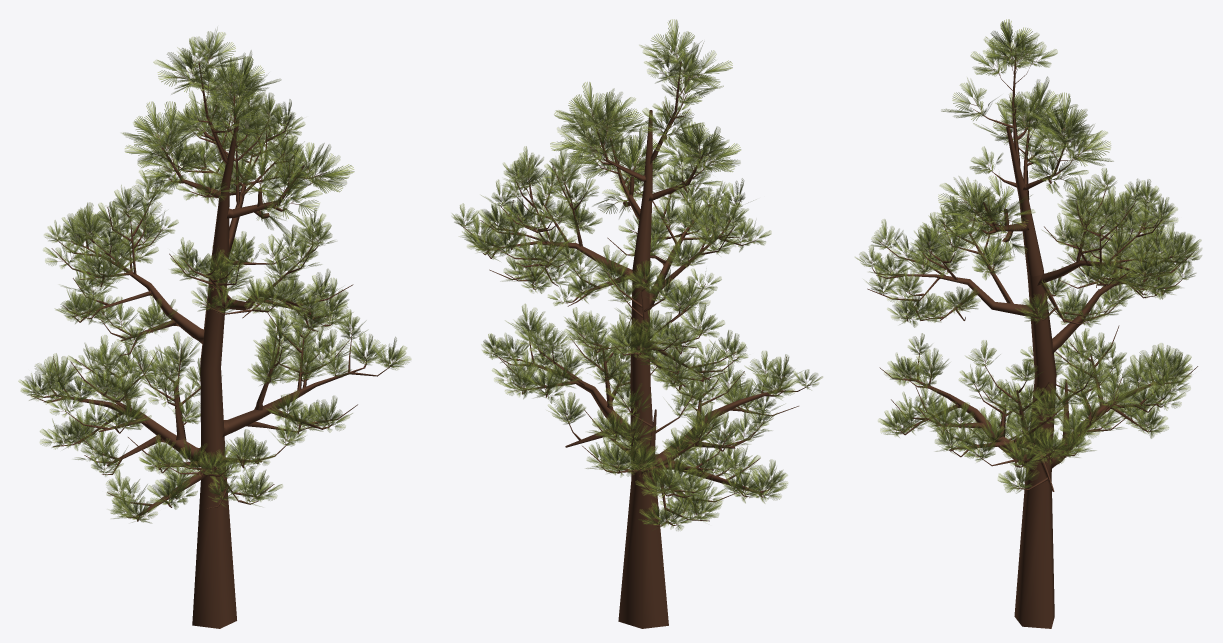
Rendered from Pine_Tree_1.glb.
3 views of the same model, side by side, from view 1: azimuth 30°, elevation 25°; view 2: azimuth 150°, elevation 25°; view 3: azimuth 270°, elevation 25° (orthographic). The views are drawn at different scales.
Visible parts, largest first — view 1: Pine_Tree_1; view 2: Pine_Tree_1; view 3: Pine_Tree_1.
Part boxes in pixels (bbox=[...]): Pine_Tree_1: bbox=[18, 27, 411, 628]; Pine_Tree_1: bbox=[451, 19, 822, 628]; Pine_Tree_1: bbox=[855, 19, 1201, 628].
Bounding box in the file's own units: 4.99 × 9.38 × 5.09.
2 materials, 2 textured.
